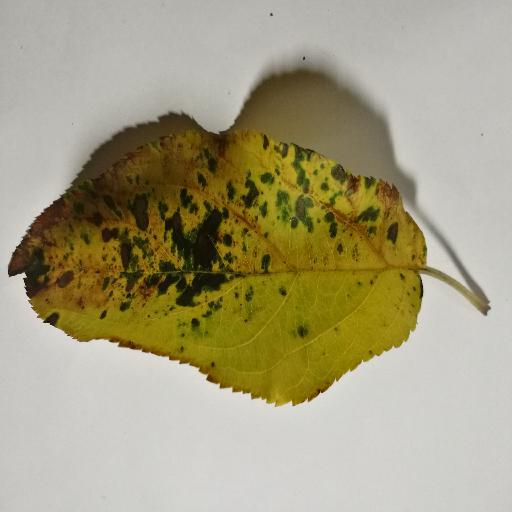Brown_Spot: (8, 159, 427, 364)
